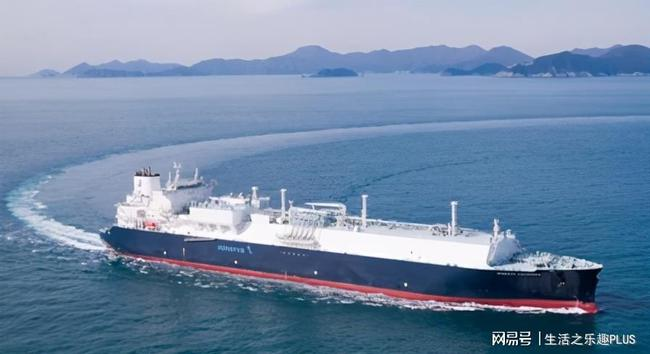Cargoship: (94, 157, 608, 320)
